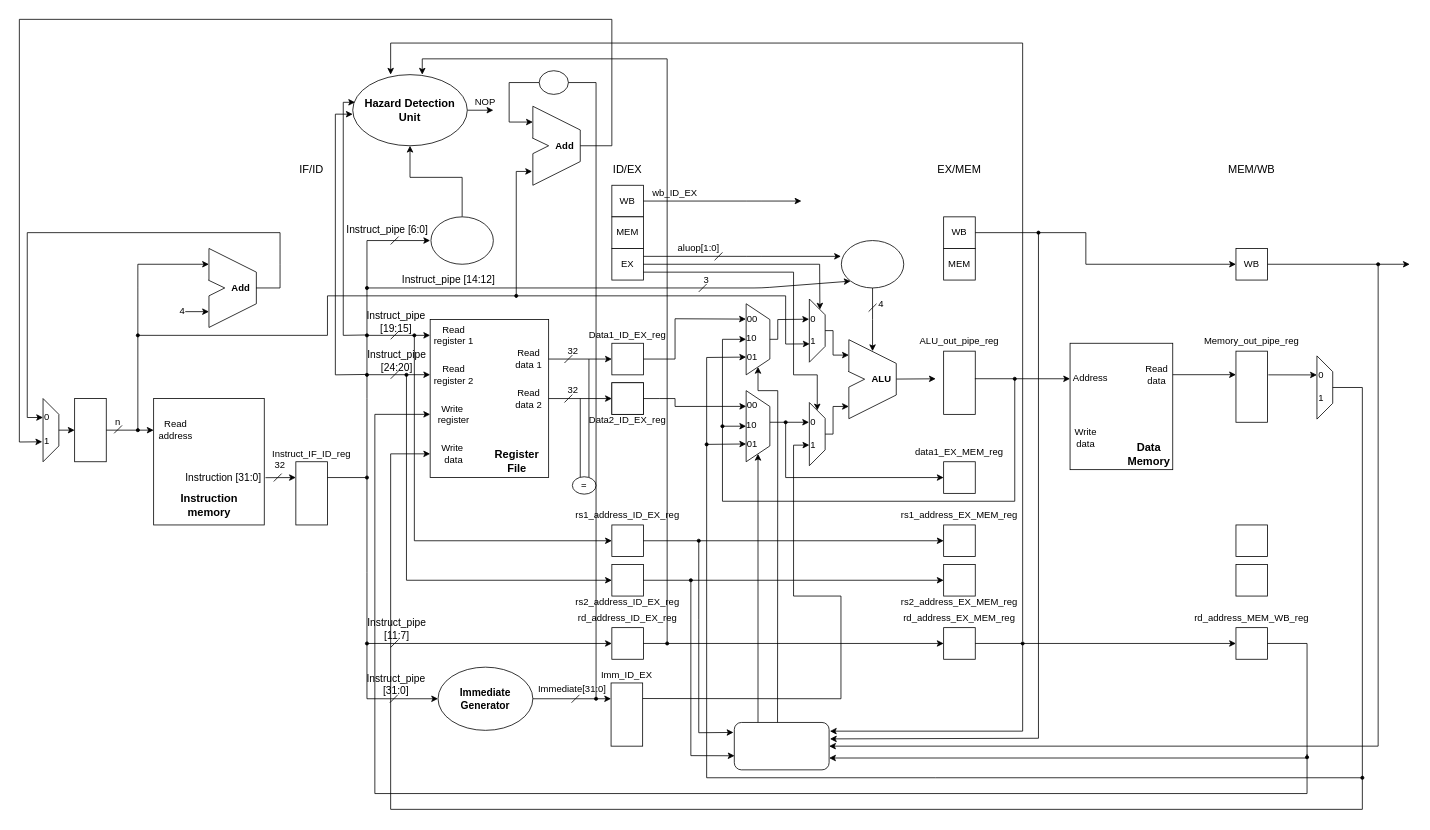
Some shapes in this 1430 by 830 pixel diagram are drawn without their labels. Here are the shapes that lost their labels. From the top down, the centre of each, then its label:
(x=553, y=82): shift left 1
(x=461, y=240): Control
(x=872, y=264): ALU Control
(x=90, y=430): PC
(x=781, y=746): Forwarding Unit
